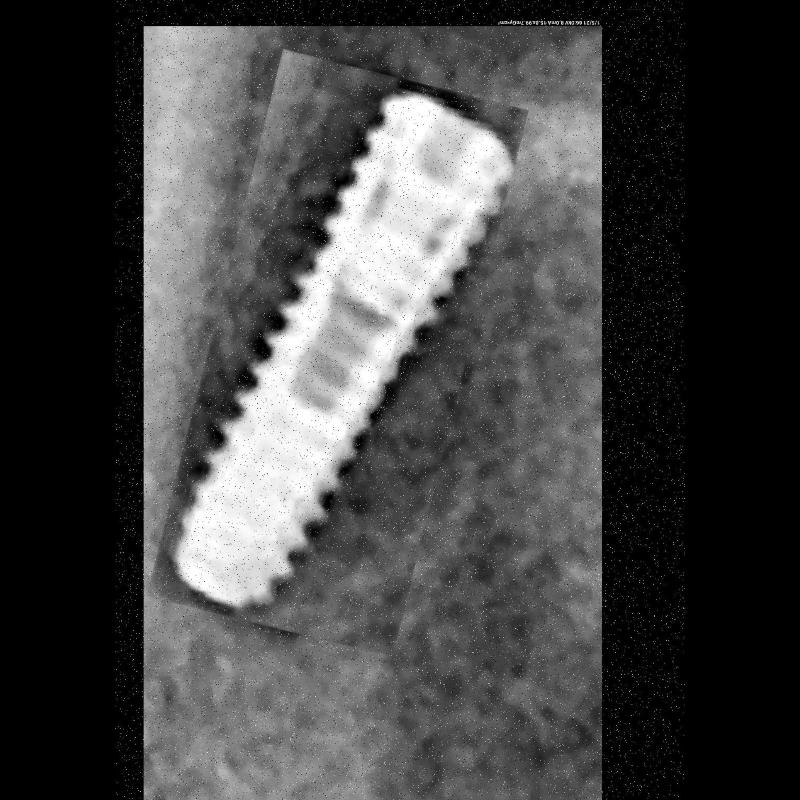osstem: (180, 60, 496, 646)
